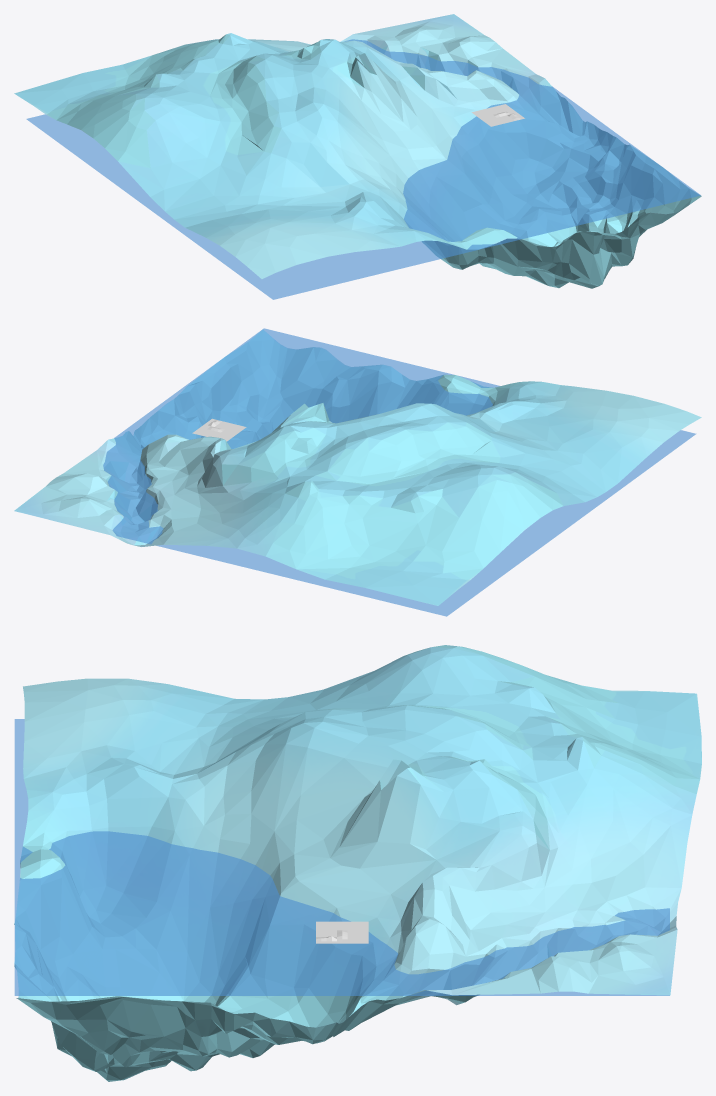
File: lowpoly-scene.glb
3 renders of one model, top to bottom at view 1: azimuth 30°, elevation 25°; view 2: azimuth 150°, elevation 25°; view 3: azimuth 270°, elevation 25°, orthographic. The views are drawn at different scales.
Visible parts, largest first — view 1: Landscape, Plane, Cylinder; view 2: Landscape, Plane, Cylinder; view 3: Landscape, Plane, Cylinder.
Part boxes in pixels (bbox=[...]): Landscape: bbox=[14, 14, 701, 288]; Plane: bbox=[26, 39, 700, 299]; Cylinder: bbox=[471, 104, 524, 126]; Landscape: bbox=[14, 330, 701, 605]; Plane: bbox=[103, 328, 695, 616]; Cylinder: bbox=[192, 418, 246, 441]; Landscape: bbox=[14, 645, 701, 1081]; Plane: bbox=[14, 719, 669, 995]; Cylinder: bbox=[316, 921, 368, 943].
Bounding box in the file's own units: 52.8 × 19.83 × 52.51.
Materials: 2 (1 with a texture image).
